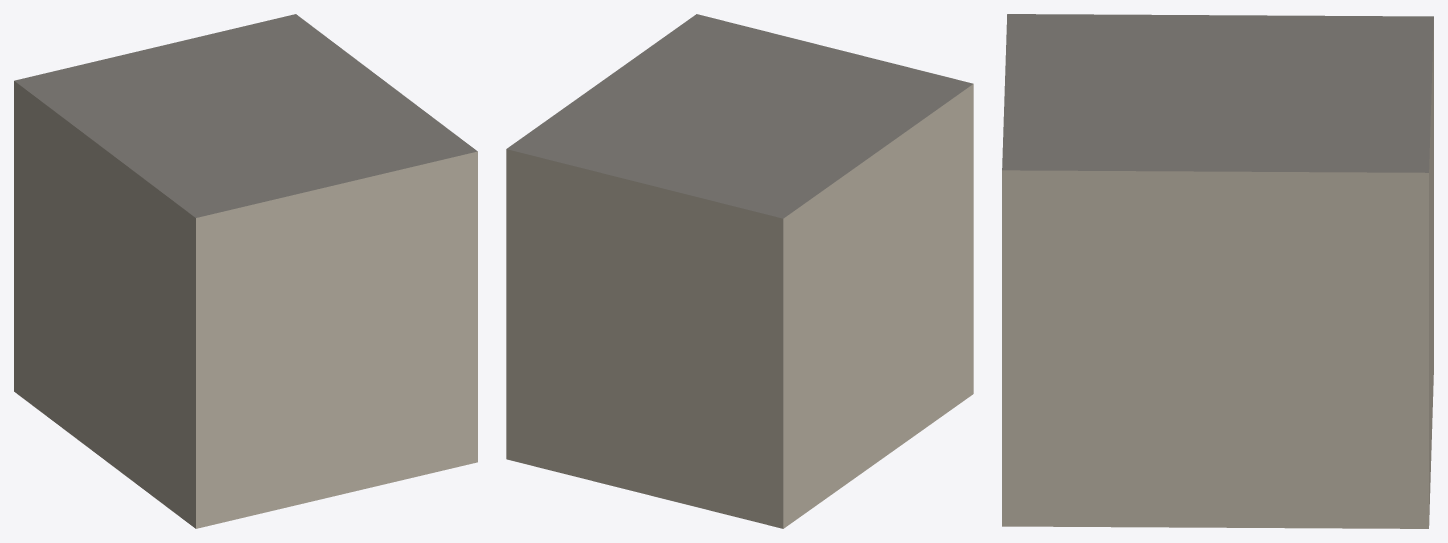
3 views of the same model, side by side, from view 1: azimuth 30°, elevation 25°; view 2: azimuth 150°, elevation 25°; view 3: azimuth 270°, elevation 25° (orthographic). The views are drawn at different scales.
Visible parts, largest first — view 1: HP-w446934935; view 2: HP-w446934935; view 3: HP-w446934935.
Boxes of the visible parts, x1,y1,x2,y2 form: HP-w446934935: (14,14,477,528); HP-w446934935: (506,14,973,528); HP-w446934935: (1002,14,1433,528).
Bounding box in the file's own units: 17.22 × 18 × 19.78.
